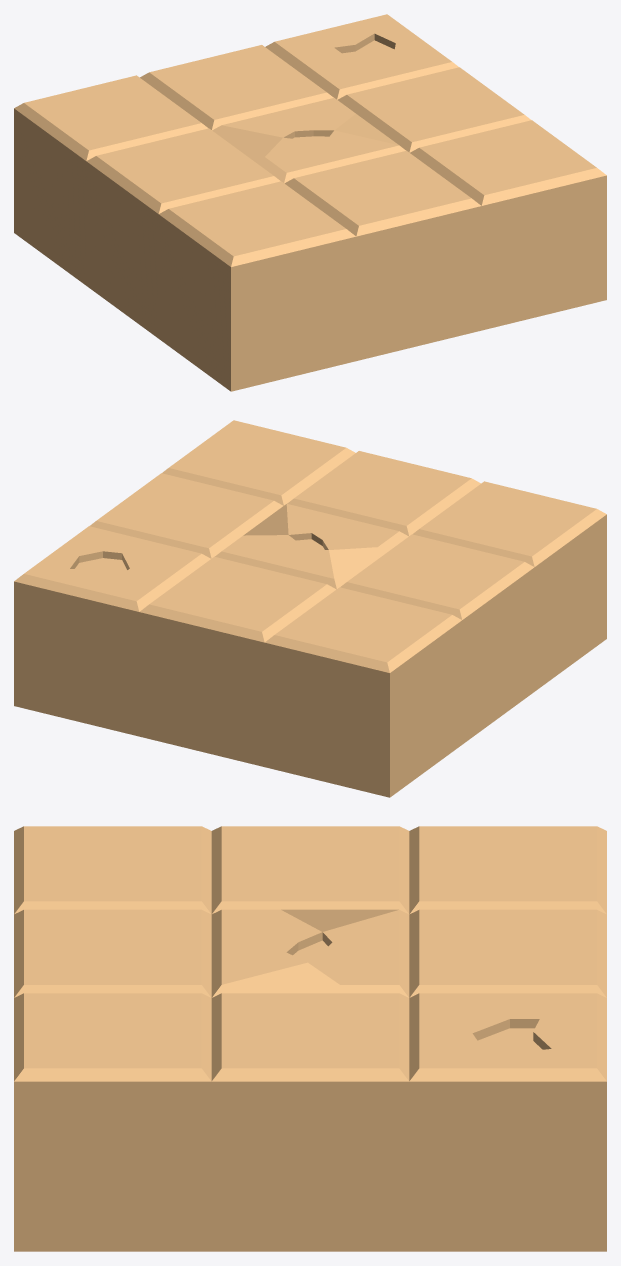
Rendered from 3x3 Floor.fbx.
3 views of the same model, one above another, from view 1: azimuth 30°, elevation 25°; view 2: azimuth 150°, elevation 25°; view 3: azimuth 270°, elevation 25° (orthographic). The views are drawn at different scales.
Parts seen in each view (by area): view 1: Cube; view 2: Cube; view 3: Cube.
Boxes of the visible parts, left/top/right/bottom form: Cube: left=14, top=14, right=606, bottom=391; Cube: left=14, top=420, right=606, bottom=797; Cube: left=14, top=826, right=606, bottom=1251.
Bounding box in the file's own units: 300 × 100 × 300.
